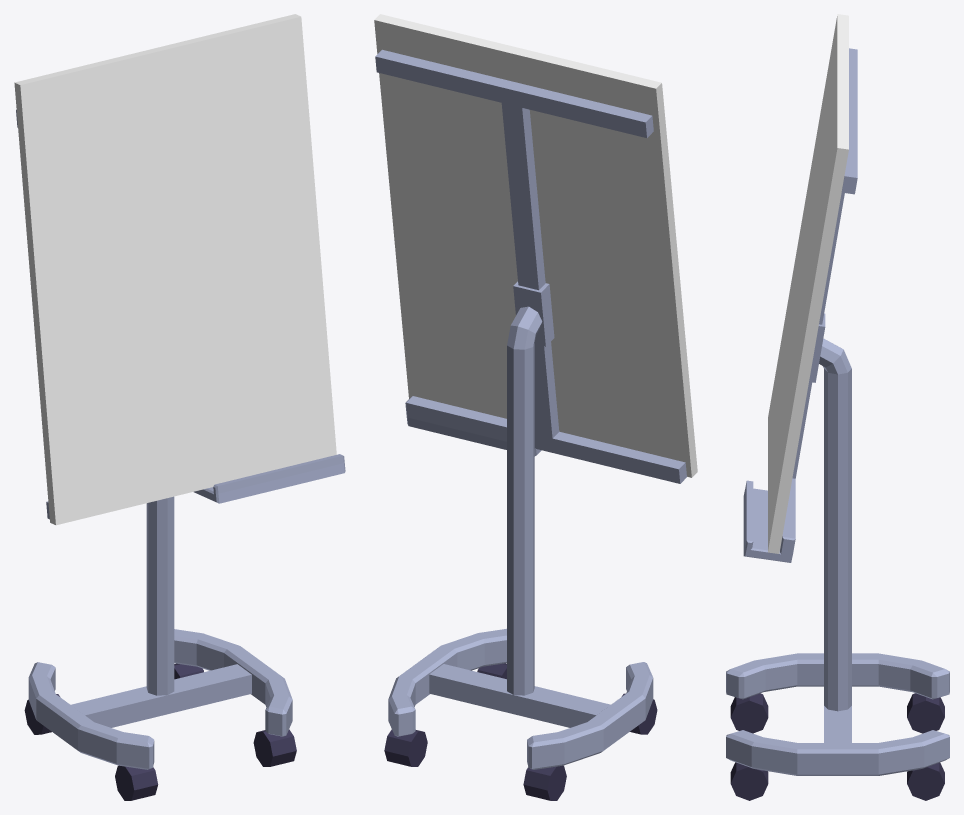
The model's file is SM_flipchart_01.fbx.
The picture shows the model from 3 angles, left to right: view 1: azimuth 30°, elevation 25°; view 2: azimuth 150°, elevation 25°; view 3: azimuth 270°, elevation 25°; orthographic projection. The views are drawn at different scales.
Visible parts, largest first — view 1: SM_Flipchart_01.007, SM_Flipchart_01.005, SM_Flipchart_01.001; view 2: SM_Flipchart_01.007, SM_Flipchart_01.005, SM_Flipchart_01.001; view 3: SM_Flipchart_01.005, SM_Flipchart_01.007, SM_Flipchart_01.001.
Part boxes in pixels (x1,y1,x2,y2): SM_Flipchart_01.007: [14, 14, 336, 525]; SM_Flipchart_01.005: [16, 109, 345, 769]; SM_Flipchart_01.001: [24, 663, 296, 800]; SM_Flipchart_01.007: [374, 14, 697, 477]; SM_Flipchart_01.005: [375, 49, 686, 769]; SM_Flipchart_01.001: [384, 663, 657, 800]; SM_Flipchart_01.005: [726, 48, 949, 775]; SM_Flipchart_01.007: [768, 14, 848, 553]; SM_Flipchart_01.001: [730, 693, 944, 800].
Size of the model in its own units: 84.45 by 200 by 59.61.
